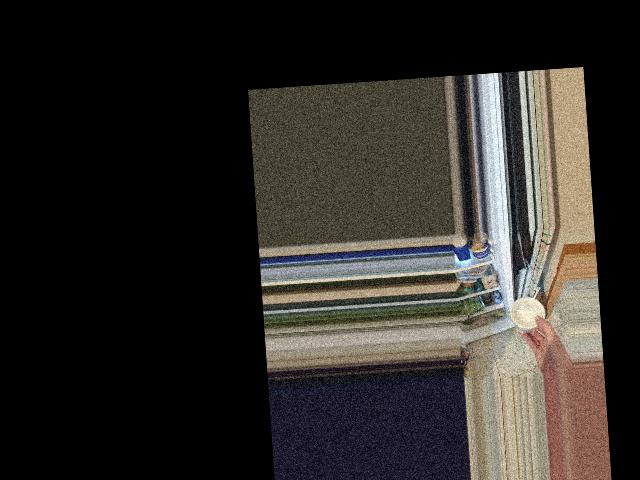cotage: (509, 295, 542, 335)
